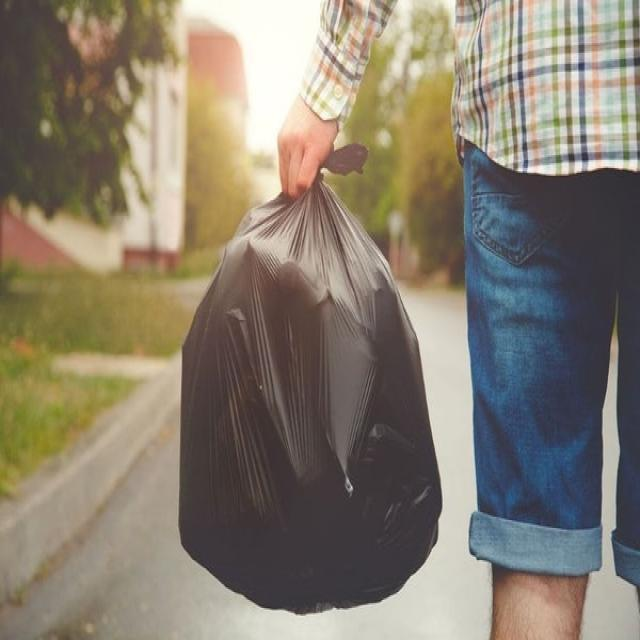Vinyl: (176, 126, 448, 624)
